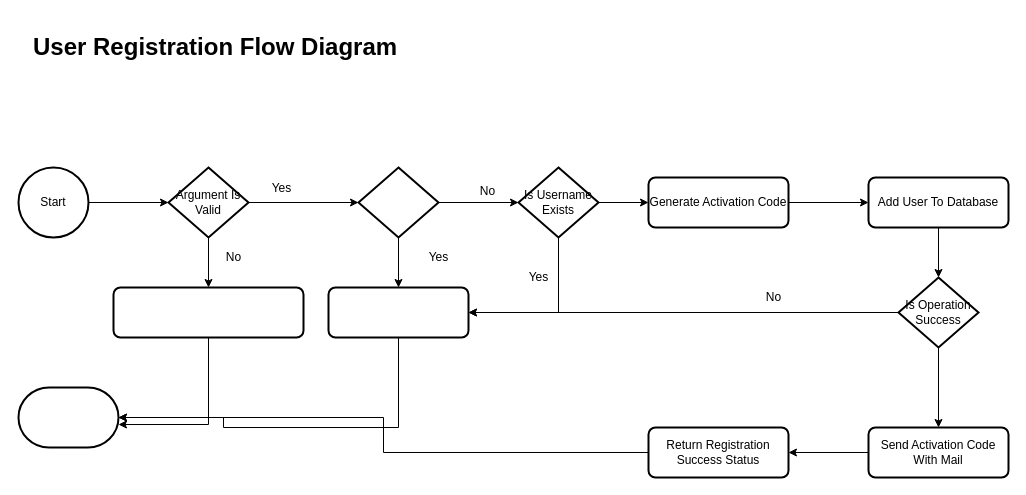
Some shapes in this 1026 by 495 pixel diagram are drawn without their labels. Here are the shapes that lost their labels. From the top down, the centre of each, then its label:
At (398,202): "Is Email Exists".
At (208,312): "Throw Argument Null Exception".
At (398,312): "Return Fail Status and Message".
At (68,417): "End".
